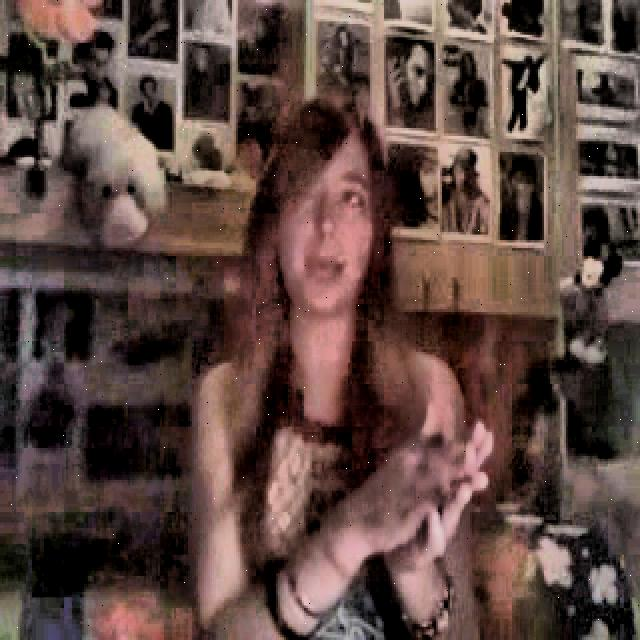F: (178, 92, 490, 640)
